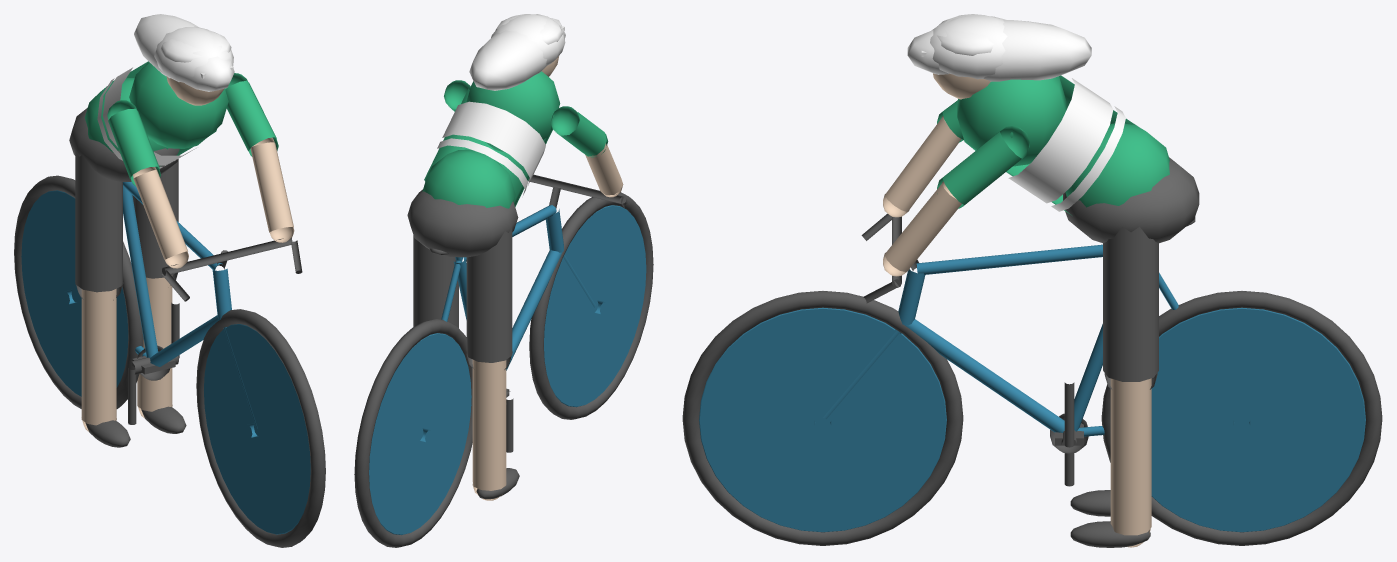
The model's file is cyclist.glb.
3 views of the same model, side by side, from view 1: azimuth 30°, elevation 25°; view 2: azimuth 150°, elevation 25°; view 3: azimuth 270°, elevation 25° (orthographic). The views are drawn at different scales.
Visible parts, largest first — view 1: wheel_front_disc, wheel_rear_disc, arms, wheel_front, frame, torso, thigh_right, shin_right, wheel_rear, shin_left, helmet_aero, hips (+7 smaller); view 2: wheel_rear_disc, wheel_front_disc, torso, wheel_rear, thigh_right, wheel_front, shin_right, hips, frame, helmet_aero, arms, thigh_left (+5 smaller); view 3: wheel_front_disc, wheel_rear_disc, wheel_front, torso, wheel_rear, arms, frame, thigh_left, shin_left, hips, helmet_aero, jersey_band (+8 smaller).
Part boxes in pixels (<box>): wheel_front_disc: <box>204,324,310,533</box>; wheel_rear_disc: <box>21,191,128,396</box>; arms: <box>107,73,294,268</box>; wheel_front: <box>196,309,325,547</box>; frame: <box>123,182,302,429</box>; torso: <box>84,61,228,166</box>; thigh_right: <box>75,149,123,300</box>; shin_right: <box>81,288,130,447</box>; wheel_rear: <box>14,175,143,408</box>; shin_left: <box>137,275,186,433</box>; helmet_aero: <box>134,14,234,91</box>; hips: <box>69,108,179,181</box>; wheel_rear_disc: <box>369,334,471,534</box>; wheel_front_disc: <box>544,206,646,406</box>; torso: <box>422,71,560,208</box>; wheel_rear: <box>354,319,472,547</box>; thigh_right: <box>466,226,512,369</box>; wheel_front: <box>529,192,653,419</box>; shin_right: <box>472,359,519,500</box>; hips: <box>407,189,518,257</box>; frame: <box>430,174,629,405</box>; helmet_aero: <box>469,18,565,90</box>; arms: <box>444,80,623,197</box>; thigh_left: <box>413,235,458,327</box>; wheel_front_disc: <box>699,309,946,531</box>; wheel_rear_disc: <box>1151,309,1365,531</box>; wheel_front: <box>682,291,963,545</box>; torso: <box>957,75,1169,215</box>; wheel_rear: <box>1101,291,1382,545</box>; arms: <box>883,100,1029,276</box>; frame: <box>823,213,1195,436</box>; thigh_left: <box>1103,226,1158,389</box>; shin_left: <box>1070,378,1151,547</box>; hips: <box>1063,157,1199,243</box>; helmet_aero: <box>907,19,1091,81</box>; jersey_band: <box>1014,79,1113,203</box>.
Size of the model in its own units: 0.47 by 1.41 by 1.7.
